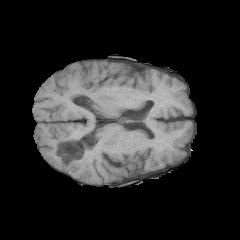glioma: (67, 144, 98, 177)
